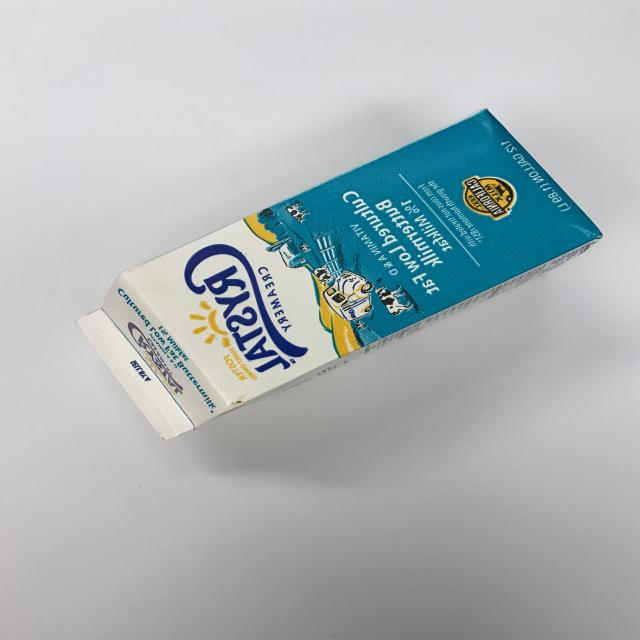paper: (6, 0, 640, 637)
